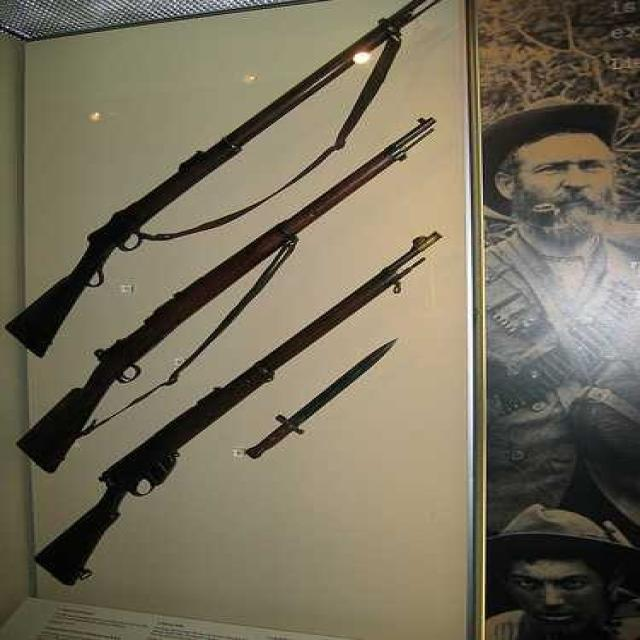heavyweapon: (20, 109, 460, 481), (16, 1, 462, 358), (42, 217, 452, 591)
